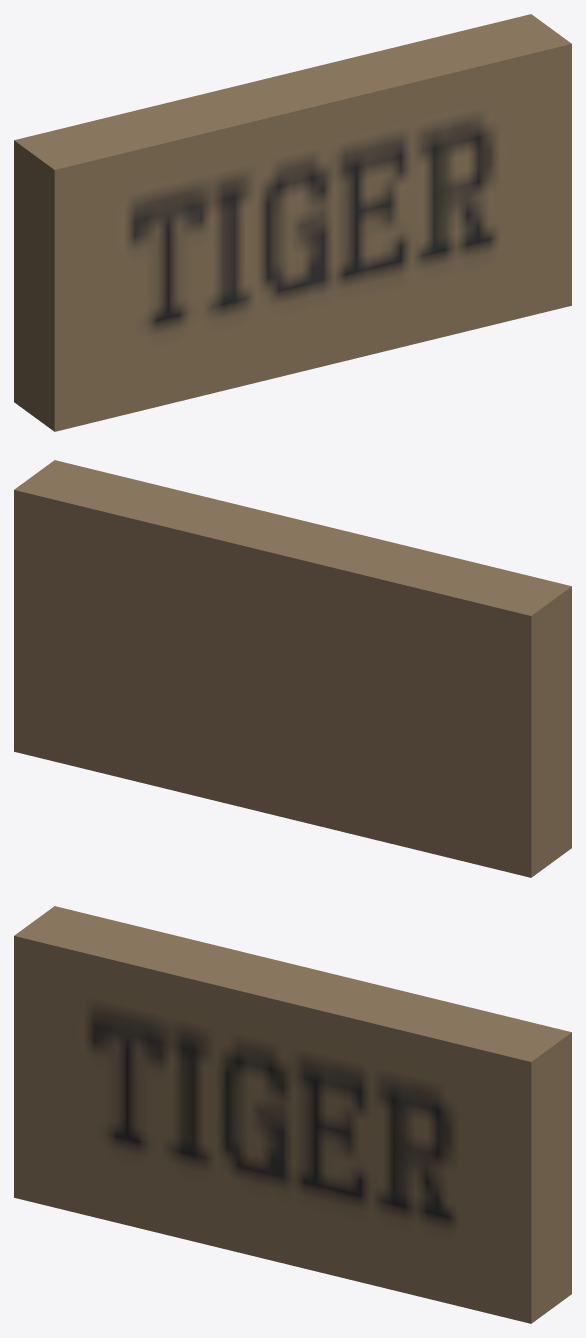
The model's file is SM_Chr_Attach_Nameplate_07.fbx.
3 renders of one model, top to bottom at view 1: azimuth 30°, elevation 25°; view 2: azimuth 150°, elevation 25°; view 3: azimuth 330°, elevation 25°, orthographic.
Visible parts, largest first — view 1: SM_Chr_Attach_Nameplate_07; view 2: SM_Chr_Attach_Nameplate_07; view 3: SM_Chr_Attach_Nameplate_07.
Boxes of the visible parts, x1,y1,x2,y2 form: SM_Chr_Attach_Nameplate_07: [14, 14, 571, 431]; SM_Chr_Attach_Nameplate_07: [14, 460, 571, 877]; SM_Chr_Attach_Nameplate_07: [14, 906, 571, 1323].
Size of the model in its own units: 11.48 by 5.55 by 1.57.
